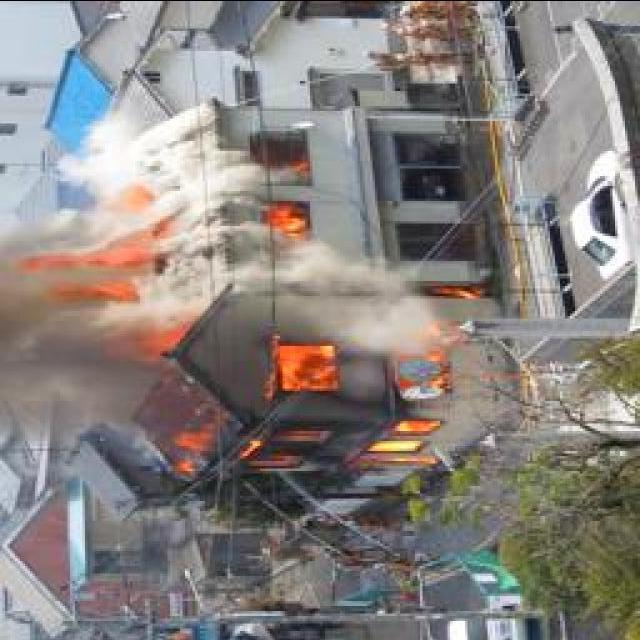Fire: (139, 342, 455, 472), (39, 242, 156, 304), (266, 198, 312, 235)
